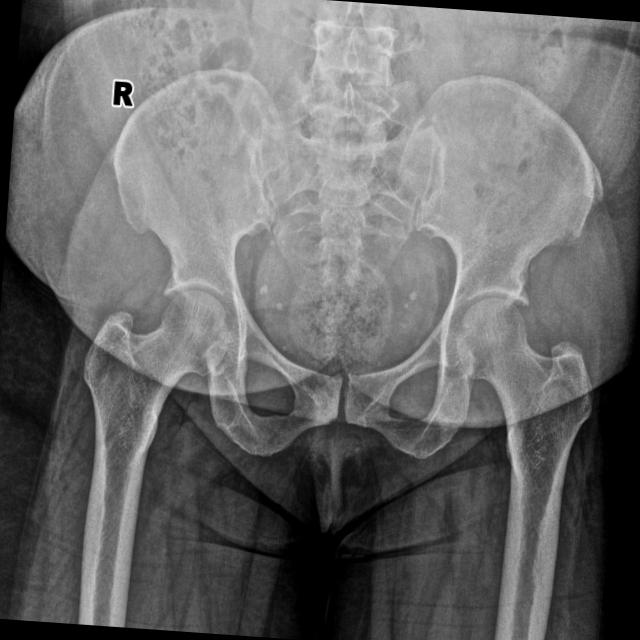normal-left: (455, 298, 593, 640)
normal-right: (78, 290, 231, 627)
